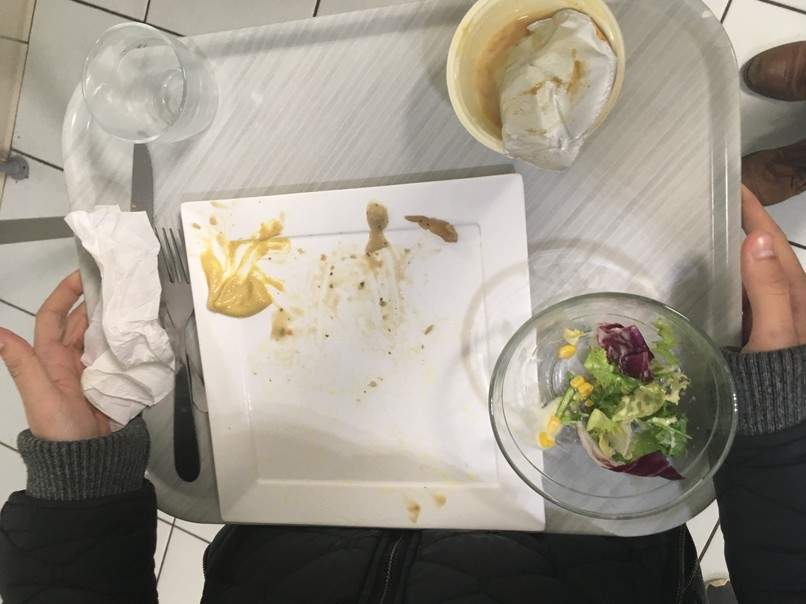orga: (559, 330, 693, 477), (197, 257, 274, 322)
trash: (52, 205, 189, 423), (453, 1, 616, 183)
